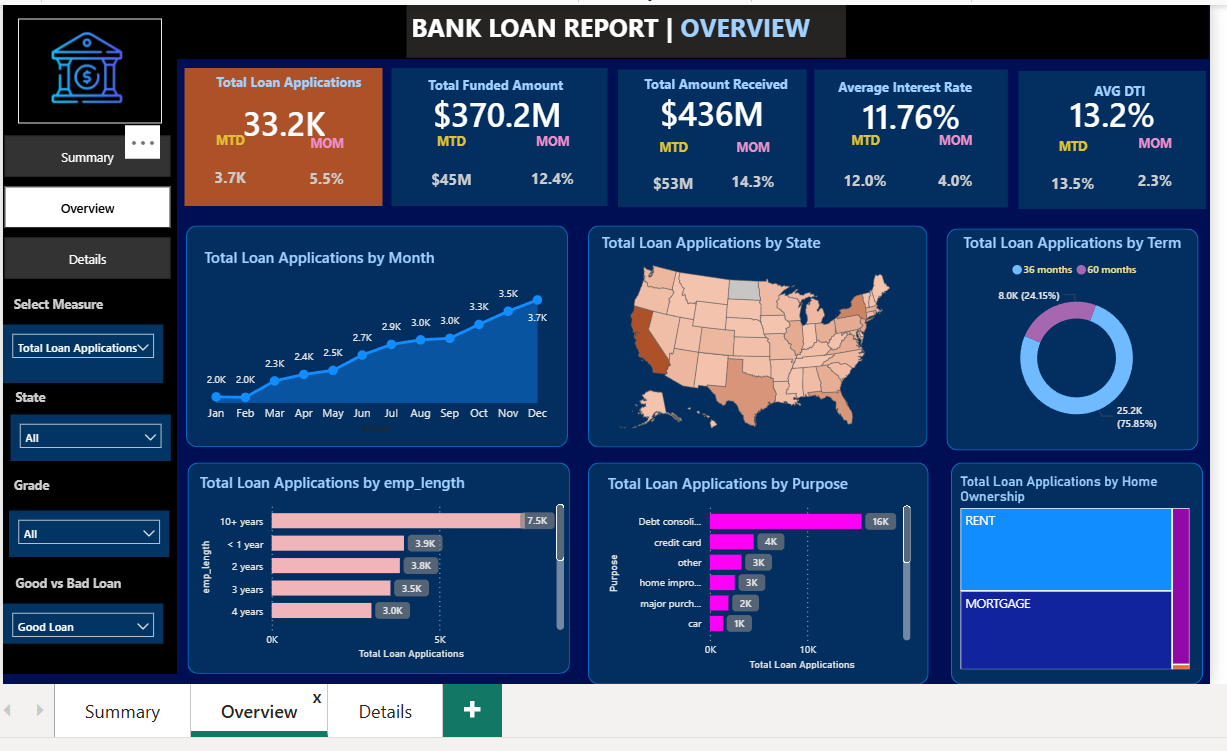

Layout of this report page (visuals, bound fields, positions):
{"tool":"powerbi","page":{"name":"Overview","canvas":[1280,720],"ordinal":1},"visuals":[{"type":"shape","box":[0,55.7,184.5,653.7],"z":0},{"type":"shape","box":[412.1,66.8,229,146.3],"z":0,"group":"g1"},{"type":"shape","box":[651.9,68.4,200,146],"z":0,"group":"g2"},{"type":"shape","box":[861.5,68.4,205,146.3],"z":0,"group":"g4"},{"type":"shape","box":[1075.9,70,198.7,146.3],"z":0,"group":"g5"},{"type":"shape","box":[0,0,1278.9,57.3],"z":1000},{"type":"textbox","box":[207.7,67.1,189.3,38.2],"z":1000,"group":"g3"},{"type":"textbox","box":[660.6,69.1,189.3,28.6],"z":1000,"group":"g2"},{"type":"textbox","box":[422.2,69.7,198.8,31.8],"z":1000,"group":"g1"},{"type":"textbox","box":[869.4,71.6,176.1,35],"z":1000,"group":"g4"},{"type":"textbox","box":[1087.1,76.7,192.8,35],"z":1000,"group":"g5"},{"type":"cardVisual","fields":{"Data":["bank_loan_data.Total Amount Received"]},"box":[650.1,74.1,202,77.9],"z":2000,"group":"g2"},{"type":"cardVisual","fields":{"Data":["bank_loan_data.Average Interest Rate"]},"box":[861,74.1,205.2,82.7],"z":2000,"group":"g4"},{"type":"cardVisual","fields":{"Data":["bank_loan_data.DTI Ratio"]},"box":[1075.1,74.8,202,79.5],"z":2000,"group":"g5"},{"type":"cardVisual","fields":{"Data":["bank_loan_data.Total Funded Amount"]},"box":[419,79.3,208.4,70],"z":2000,"group":"g1"},{"type":"cardVisual","fields":{"Data":["bank_loan_data.Total Loan Applications"]},"box":[193.4,89.7,208.4,70],"z":2000,"group":"g3"},{"type":"shape","box":[194.1,233.8,405,235],"z":2000},{"type":"textbox","box":[427.9,0,466,55.7],"z":3000},{"type":"cardVisual","title":"MTD","fields":{"Data":["bank_loan_data.MTD Average Interest Rate"]},"box":[862.6,133,105,82.7],"z":3000,"group":"g4"},{"type":"cardVisual","title":"MTD","fields":{"Data":["bank_loan_data.MTD Loan Applications"]},"box":[192.5,134.4,97,78],"z":3000,"group":"g3"},{"type":"cardVisual","title":"MTD","fields":{"Data":["bank_loan_data.MTD Funded Amount"]},"box":[411.6,135.2,127,77],"z":3000,"group":"g1"},{"type":"cardVisual","title":"MTD","fields":{"Data":["bank_loan_data.MTD Average DTI Ratio"]},"box":[1074.8,140.1,118.9,76.3],"z":3000,"group":"g5"},{"type":"cardVisual","title":"MTD","fields":{"Data":["bank_loan_data.MTD Amount Received"]},"box":[652.2,141.6,117.7,73.2],"z":3000,"group":"g2"},{"type":"group","id":"g1","title":"Group 1","box":[411.6,66.8,229.5,146.3],"z":4000},{"type":"cardVisual","title":"MOM","fields":{"Data":["bank_loan_data.MOM Average Interest Rate"]},"box":[954.9,133,111.3,82.7],"z":4000,"group":"g4"},{"type":"cardVisual","title":"MOM","fields":{"Data":["bank_loan_data.MOM Funded Amount"]},"box":[526.8,135.5,112.9,76.3],"z":4000,"group":"g1"},{"type":"cardVisual","title":"MOM","fields":{"Data":["bank_loan_data.MOM Average DTI Ratio"]},"box":[1166.7,137.3,108.1,76.3],"z":4000,"group":"g5"},{"type":"cardVisual","title":"MOM","fields":{"Data":["bank_loan_data.MOM Loan Applications"]},"box":[284.7,137.8,117.7,73],"z":4000,"group":"g3"},{"type":"cardVisual","title":"MOM","fields":{"Data":["bank_loan_data.MOM Amount Received"]},"box":[739.7,141.6,111.3,70],"z":4000,"group":"g2"},{"type":"group","id":"g2","title":"Group 1","box":[650.1,68.4,202,146.4],"z":5000},{"type":"group","id":"g3","title":"Group 1","box":[192.5,67.1,209.9,145.3],"z":6000},{"type":"group","id":"g4","title":"Group 1","box":[861,68.4,205.5,147.3],"z":7000},{"type":"group","id":"g5","title":"Group 1","box":[1074.8,70,205.1,146.4],"z":8000},{"type":"slicer","fields":{"Values":["bank_loan_data.address_state"]},"box":[8,434.2,170.2,49.3],"z":9000},{"type":"textbox","box":[8,400.8,85.9,36.6],"z":10000},{"type":"slicer","fields":{"Values":["bank_loan_data.grade"]},"box":[6.4,536,170.2,49.3],"z":11000},{"type":"textbox","box":[6.4,494.7,85.9,36.6],"z":12000},{"type":"slicer","fields":{"Values":["bank_loan_data.Good  vs Bad Loan"]},"box":[0,634.7,170.2,42.9],"z":13000},{"type":"textbox","box":[8,598.1,144.7,36.6],"z":14000},{"type":"areaChart","fields":{"Y":["bank_loan_data.Total Loan Applications"],"Category":["Date Table.Month"]},"box":[208.4,256.1,375.4,203.6],"z":15000},{"type":"slicer","fields":{"Values":["Select Measure.Select Measure"]},"box":[0,338.8,170.2,62],"z":16000},{"type":"shape","box":[620.3,233.8,360,235.4],"z":17000},{"type":"textbox","box":[6.4,302.2,127.2,36.6],"z":18000},{"type":"shapeMap","fields":{"Value":["bank_loan_data.Total Loan Applications"],"Category":["bank_loan_data.address_state"]},"box":[629.9,240.2,334,222.7],"z":19000},{"type":"shape","box":[1000.5,237,267.2,235.4],"z":20000},{"type":"donutChart","fields":{"Y":["bank_loan_data.Total Loan Applications"],"Category":["bank_loan_data.term"]},"box":[1013.2,240.2,249.7,219.5],"z":21000},{"type":"shape","box":[195.6,485.1,405.6,224.3],"z":22000},{"type":"barChart","fields":{"Y":["bank_loan_data.Total Loan Applications"],"Category":["bank_loan_data.emp_length"]},"box":[203.6,494.7,396.1,203.6],"z":23000},{"type":"shape","box":[620.3,485.1,361.1,235.4],"z":24000},{"type":"barChart","fields":{"Y":["bank_loan_data.Total Loan Applications"],"Category":["bank_loan_data.purpose"]},"box":[636.2,496.3,330.8,213.1],"z":25000},{"type":"shape","box":[1005.3,485.1,267.2,235.4],"z":26000},{"type":"treemap","fields":{"Values":["bank_loan_data.Total Loan Applications"],"Group":["bank_loan_data.home_ownership"]},"box":[1010,496.3,252.9,213.1],"z":27000},{"type":"pageNavigator","box":[1.6,138.4,176.6,154.3],"z":28000},{"type":"image","box":[15.9,14.3,152.7,111.3],"z":29000}]}

Visuals, with their boxes on the page's 1280x720 design canvas (x1, y1, x2, y2). These are canvas units, not pixel positions in the 1227x751 screenshot, which may show the page scaled, cropped or inside an application window:
shape: [0,56,184,709]
shape: [412,67,641,213]
shape: [652,68,852,214]
shape: [862,68,1066,215]
shape: [1076,70,1275,216]
shape: [0,0,1279,57]
textbox: [208,67,397,105]
textbox: [661,69,850,98]
textbox: [422,70,621,102]
textbox: [869,72,1046,107]
textbox: [1087,77,1280,112]
cardVisual - bank_loan_data.Total Amount Received: [650,74,852,152]
cardVisual - bank_loan_data.Average Interest Rate: [861,74,1066,157]
cardVisual - bank_loan_data.DTI Ratio: [1075,75,1277,154]
cardVisual - bank_loan_data.Total Funded Amount: [419,79,627,149]
cardVisual - bank_loan_data.Total Loan Applications: [193,90,402,160]
shape: [194,234,599,469]
textbox: [428,0,894,56]
"MTD" cardVisual: [863,133,968,216]
"MTD" cardVisual: [192,134,290,212]
"MTD" cardVisual: [412,135,539,212]
"MTD" cardVisual: [1075,140,1194,216]
"MTD" cardVisual: [652,142,770,215]
"Group 1" group: [412,67,641,213]
"MOM" cardVisual: [955,133,1066,216]
"MOM" cardVisual: [527,136,640,212]
"MOM" cardVisual: [1167,137,1275,214]
"MOM" cardVisual: [285,138,402,211]
"MOM" cardVisual: [740,142,851,212]
"Group 1" group: [650,68,852,215]
"Group 1" group: [192,67,402,212]
"Group 1" group: [861,68,1066,216]
"Group 1" group: [1075,70,1280,216]
slicer - bank_loan_data.address_state: [8,434,178,484]
textbox: [8,401,94,437]
slicer - bank_loan_data.grade: [6,536,177,585]
textbox: [6,495,92,531]
slicer - bank_loan_data.Good  vs Bad Loan: [0,635,170,678]
textbox: [8,598,153,635]
areaChart - bank_loan_data.Total Loan Applications x Date Table.Month: [208,256,584,460]
slicer - Select Measure.Select Measure: [0,339,170,401]
shape: [620,234,980,469]
textbox: [6,302,134,339]
shapeMap - bank_loan_data.Total Loan Applications x bank_loan_data.address_state: [630,240,964,463]
shape: [1000,237,1268,472]
donutChart - bank_loan_data.Total Loan Applications x bank_loan_data.term: [1013,240,1263,460]
shape: [196,485,601,709]
barChart - bank_loan_data.Total Loan Applications x bank_loan_data.emp_length: [204,495,600,698]
shape: [620,485,981,720]
barChart - bank_loan_data.Total Loan Applications x bank_loan_data.purpose: [636,496,967,709]
shape: [1005,485,1272,720]
treemap - bank_loan_data.Total Loan Applications x bank_loan_data.home_ownership: [1010,496,1263,709]
pageNavigator: [2,138,178,293]
image: [16,14,169,126]
